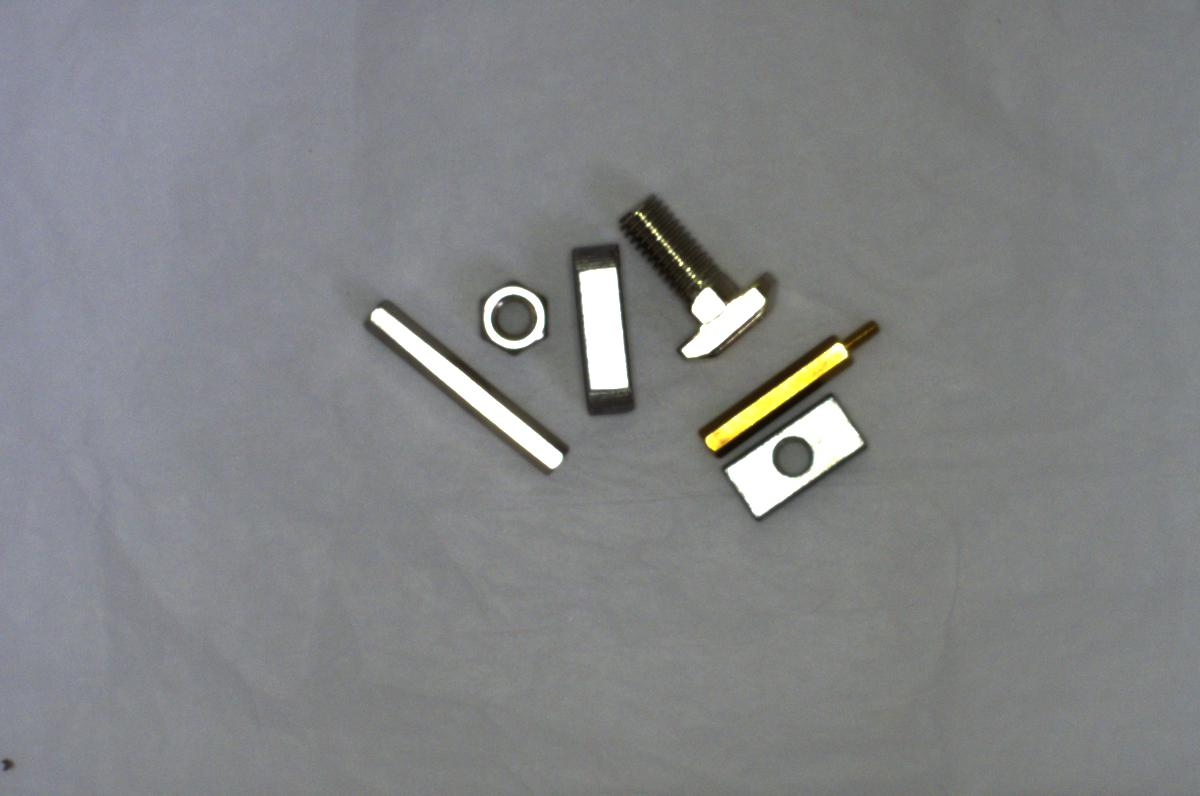Double hexagonal column: (360, 301, 568, 476)
Hexagon nut: (470, 268, 554, 363)
Hexagon pillar: (690, 312, 884, 455)
Keybar: (562, 247, 642, 412)
Rectangular nut: (718, 394, 872, 526)
T-shaped screw: (610, 188, 784, 362)
